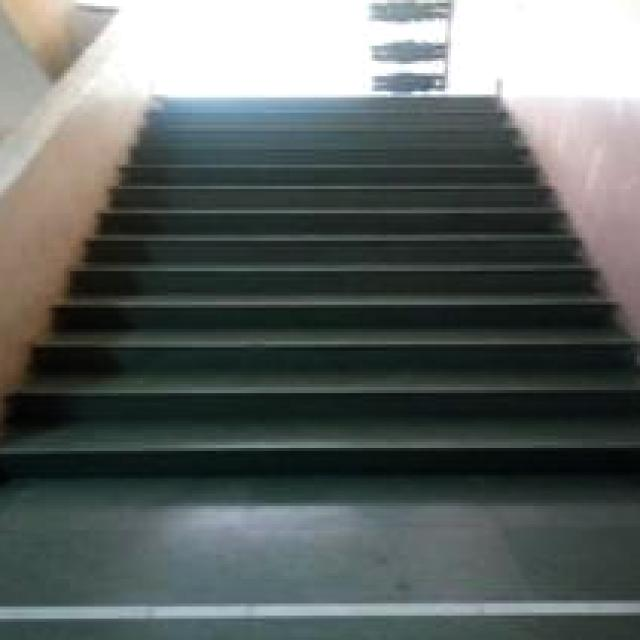upstair: (53, 257, 592, 507)
